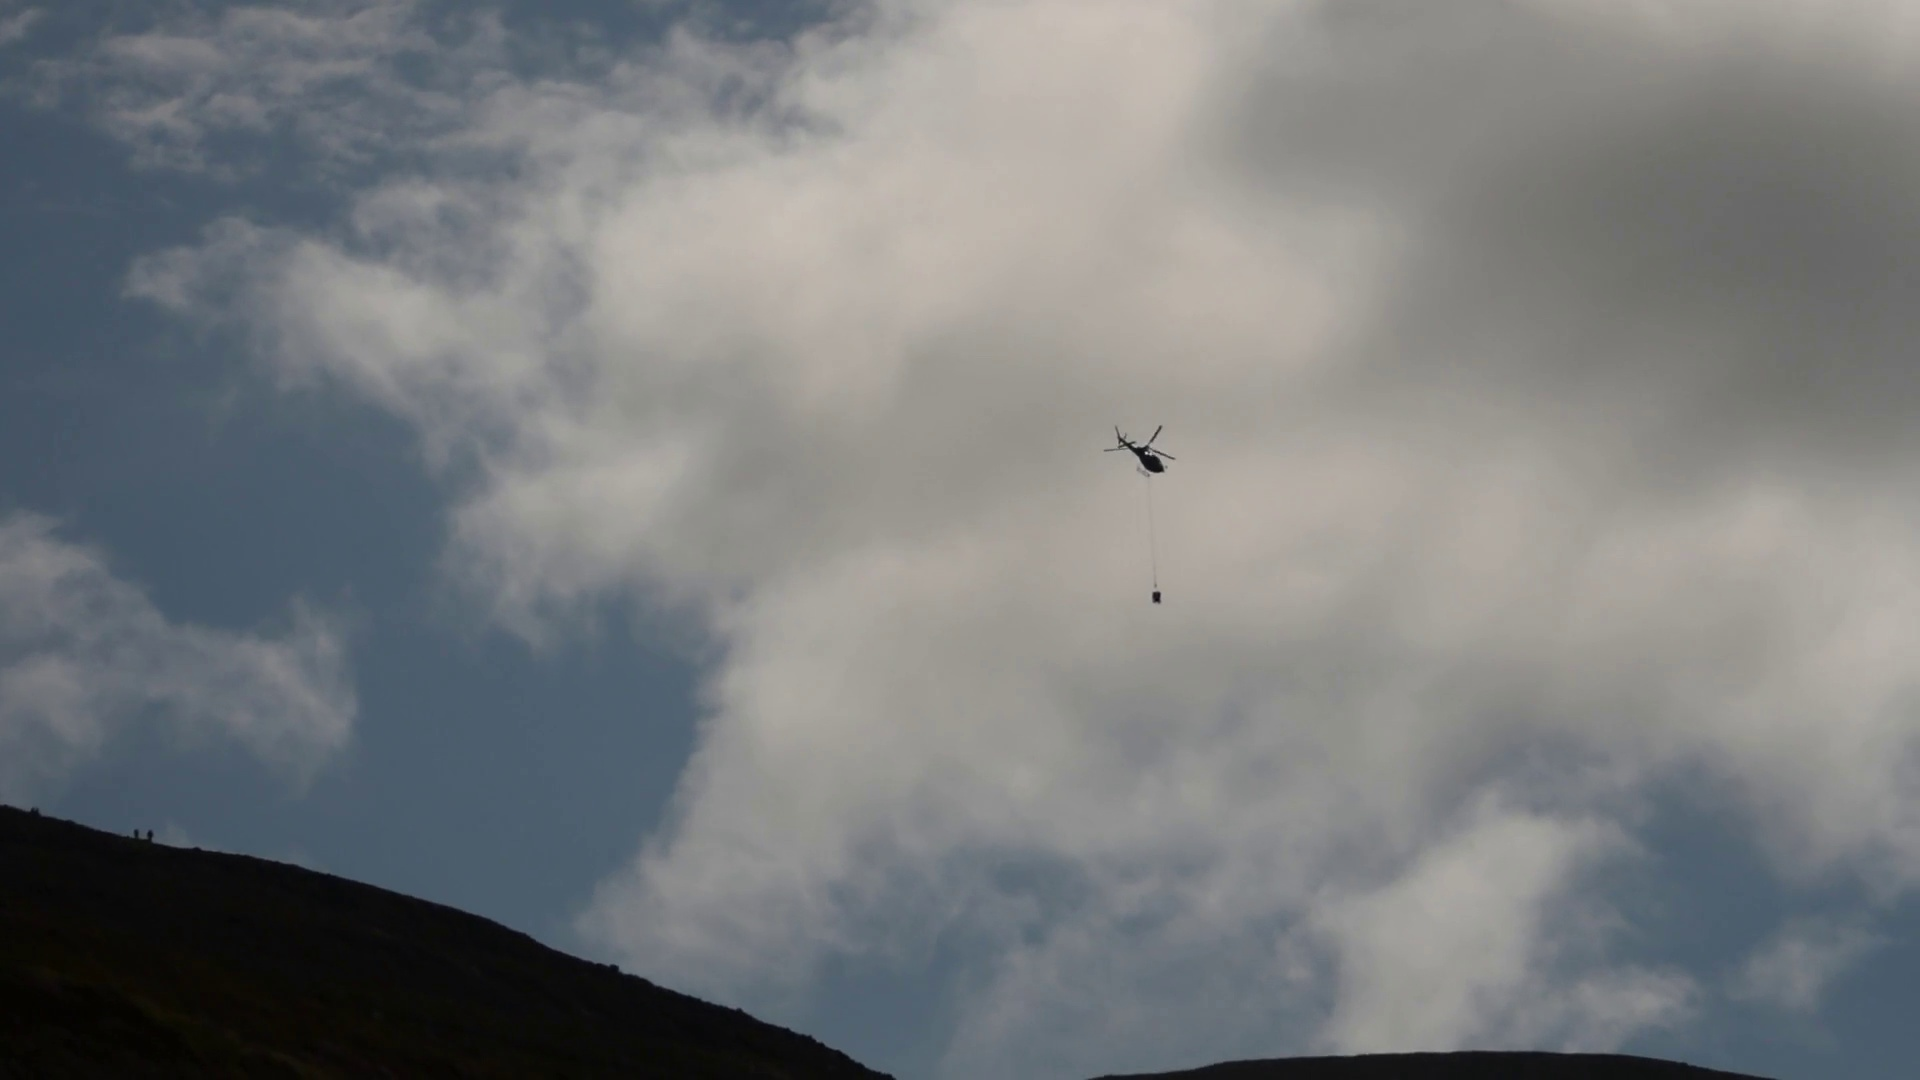heli: (1101, 425, 1176, 479)
